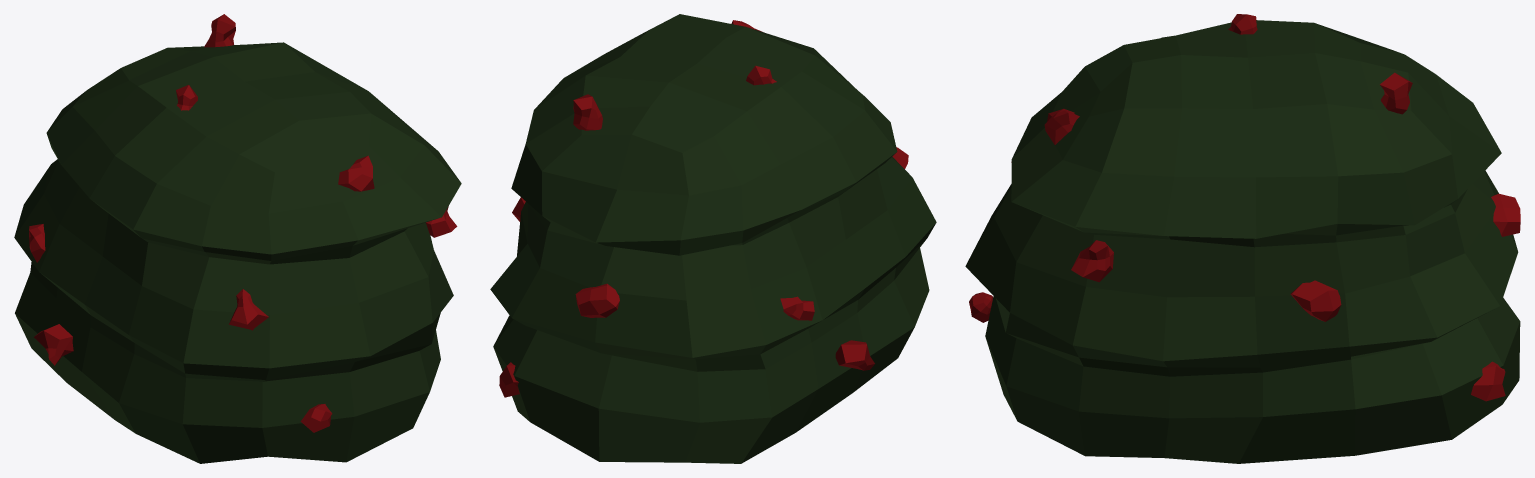
File: bushberries_1.glb
3 renders of one model, left to right at view 1: azimuth 30°, elevation 25°; view 2: azimuth 150°, elevation 25°; view 3: azimuth 270°, elevation 25°, orthographic. The views are drawn at different scales.
Parts seen in each view (by area): view 1: BushBerries_1; view 2: BushBerries_1; view 3: BushBerries_1.
Boxes of the visible parts, x1,y1,x2,y2 form: BushBerries_1: (14, 14, 461, 463); BushBerries_1: (490, 14, 936, 463); BushBerries_1: (965, 14, 1520, 463).
Size of the model in its own units: 139 by 128 by 172.
